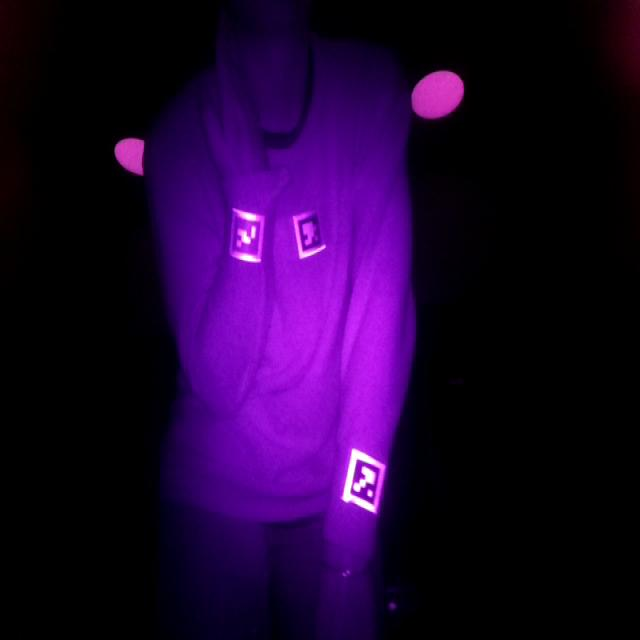Apriltags: (344, 444, 386, 514), (229, 205, 264, 265), (292, 209, 326, 256)
